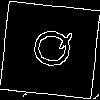Q: (24, 25, 74, 71)
